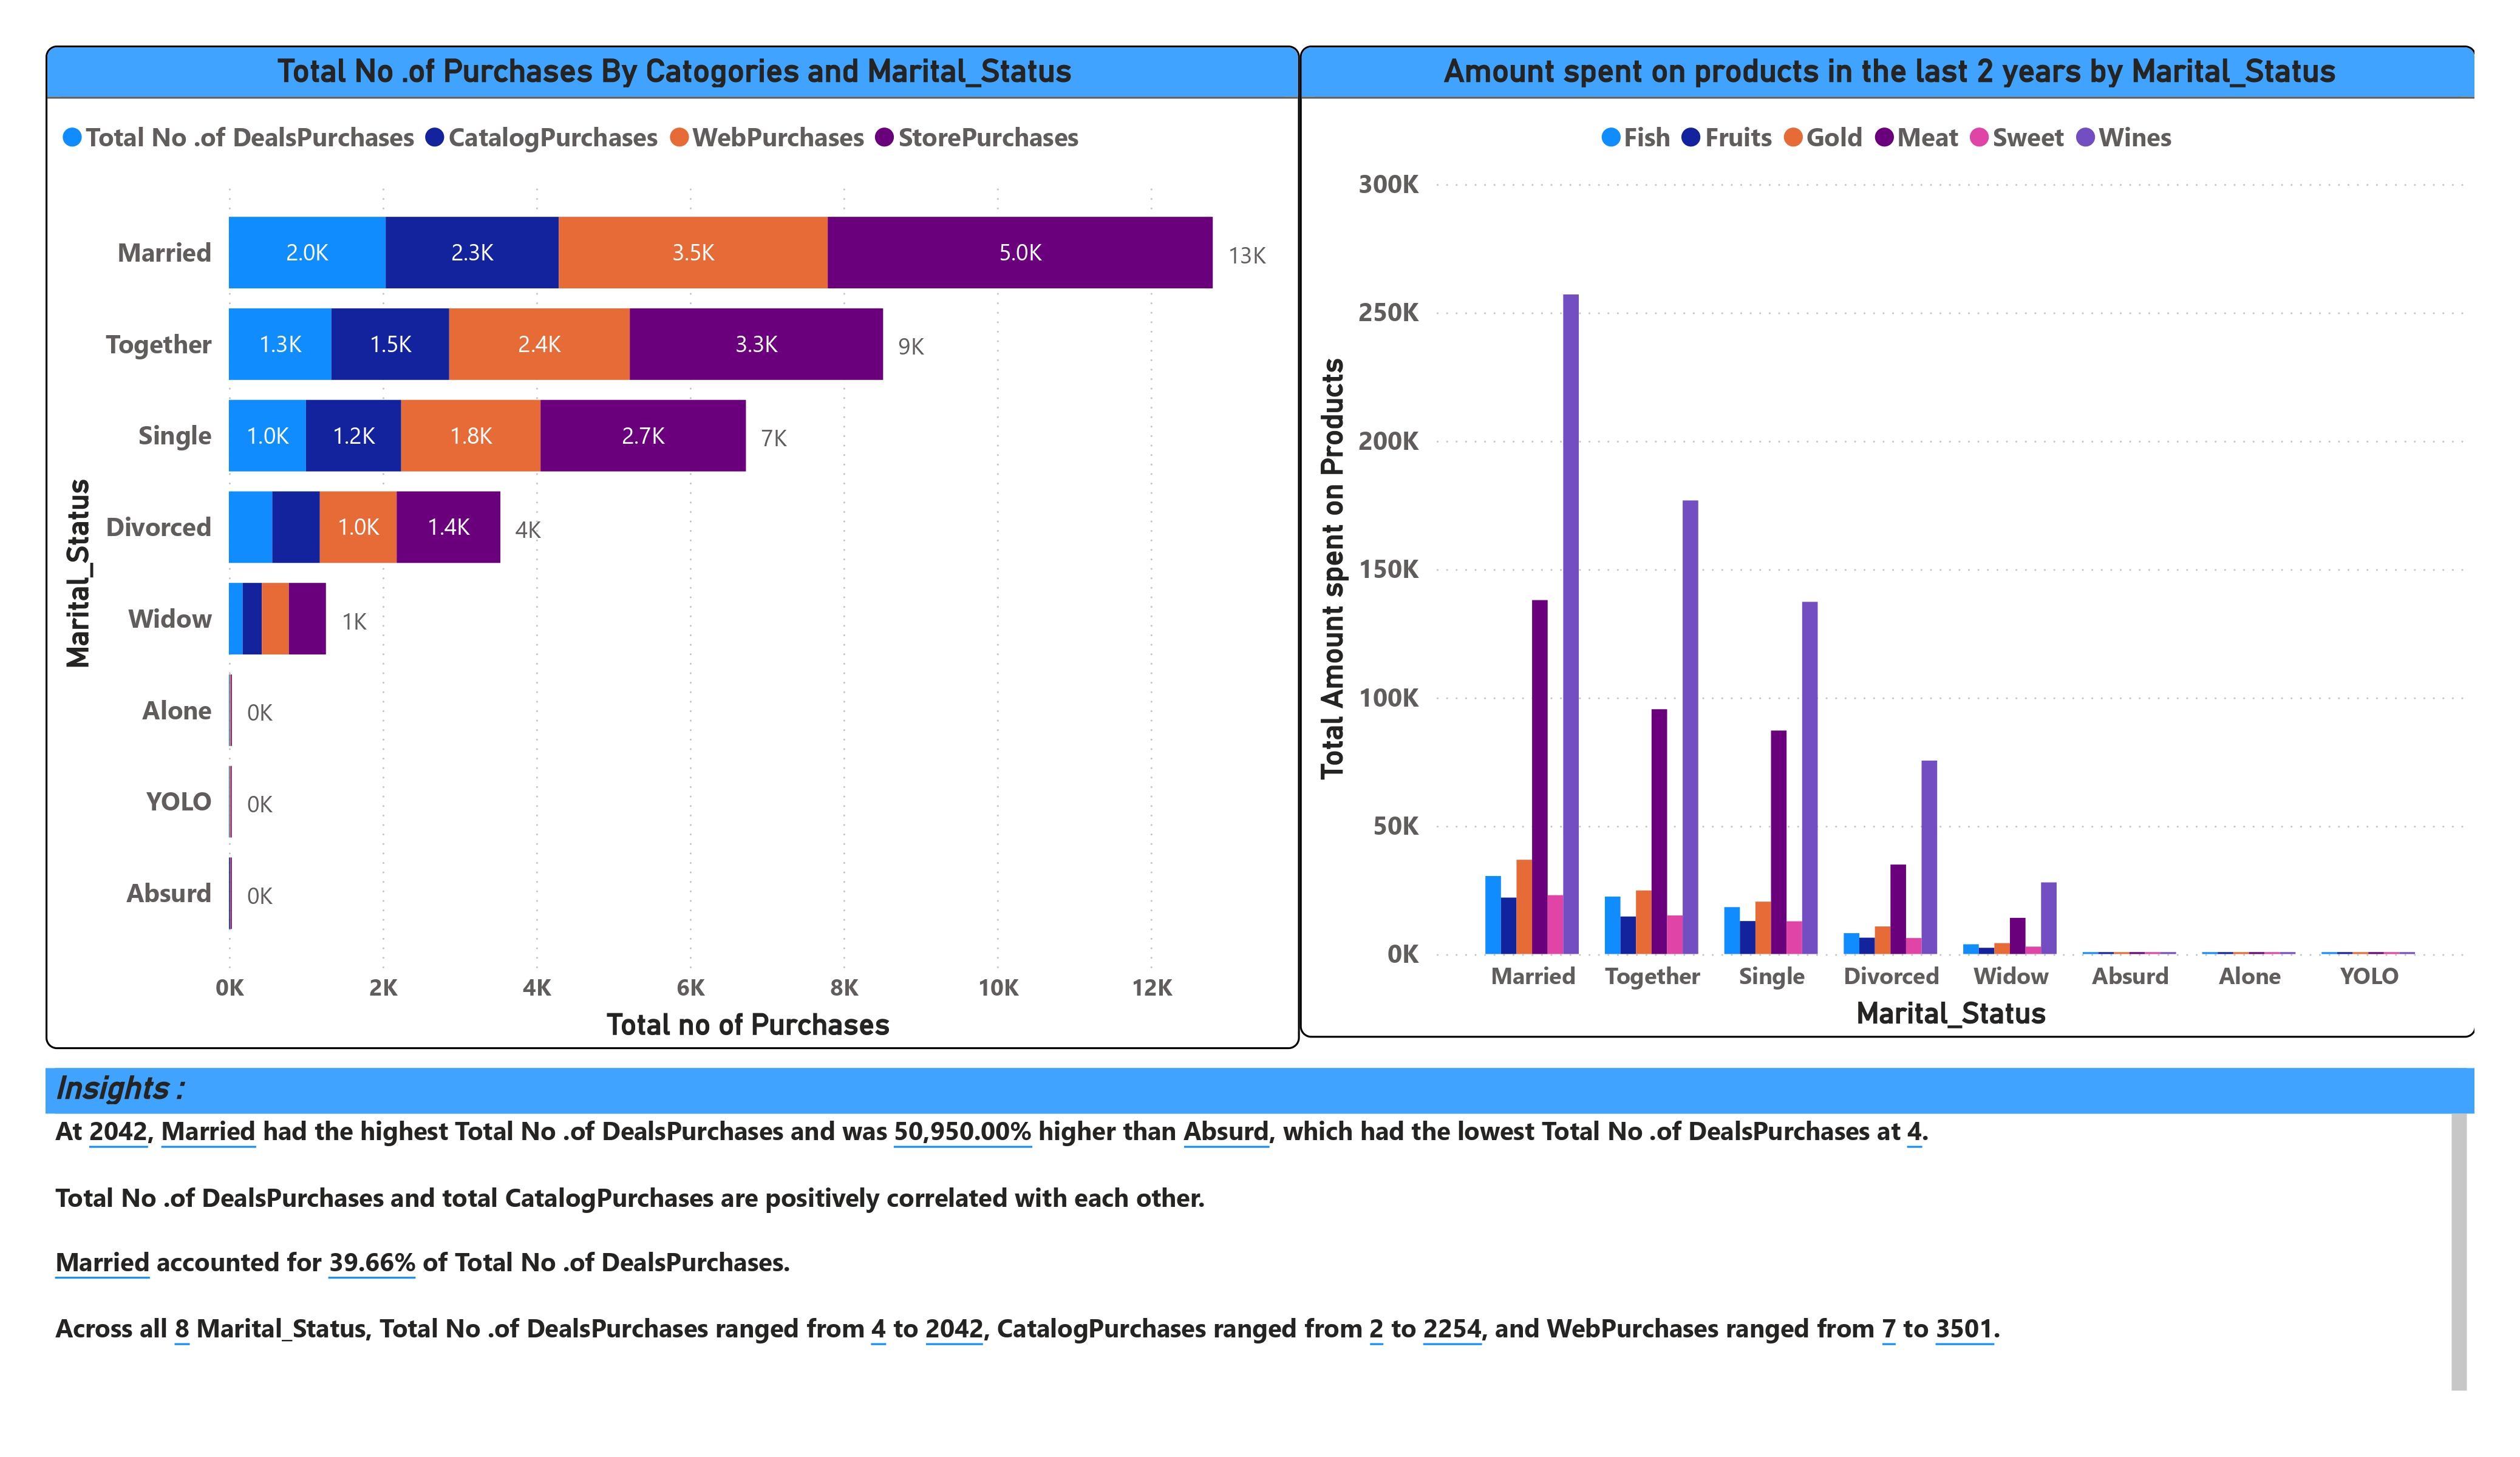

The dashboard page shown, as its layout file describes it:
{"tool":"powerbi","page":{"name":"Page 2","canvas":[1280,720],"ordinal":1},"visuals":[{"type":"barChart","title":"Total No .of Purchases By Catogories and Marital_Status","fields":{"Category":["marketing_campaign_cleaned.Marital_Status"],"Y":["marketing_campaign_cleaned.NumDealsPurchases","marketing_campaign_cleaned.NumCatalogPurchases","marketing_campaign_cleaned.NumWebPurchases","marketing_campaign_cleaned.NumStorePurchases"]},"box":[0,0,660.7,529.1],"z":0},{"type":"clusteredColumnChart","title":"Amount spent on  products in the last 2 years by Marital_Status","fields":{"Y":["marketing_campaign_cleaned.MntFishProducts","marketing_campaign_cleaned.MntFruits","marketing_campaign_cleaned.MntGoldProds","marketing_campaign_cleaned.MntMeatProducts","marketing_campaign_cleaned.MntSweetProducts","marketing_campaign_cleaned.MntWines"],"Category":["marketing_campaign_cleaned.Marital_Status"]},"box":[660.7,0,619.8,522.7],"z":1000},{"type":"textbox","title":"Insights :","box":[0,539.3,1280.5,180.2],"z":2000}]}

Visuals, with their boxes on the page's 1280x720 design canvas (x1, y1, x2, y2). These are canvas units, not pixel positions in the 2520x1457 screenshot, which may show the page scaled, cropped or inside an application window:
"Total No .of Purchases By Catogories and Marital_Status" barChart: 0/0/661/529
"Amount spent on  products in the last 2 years by Marital_Status" clusteredColumnChart: 661/0/1280/523
"Insights :" textbox: 0/539/1280/720
